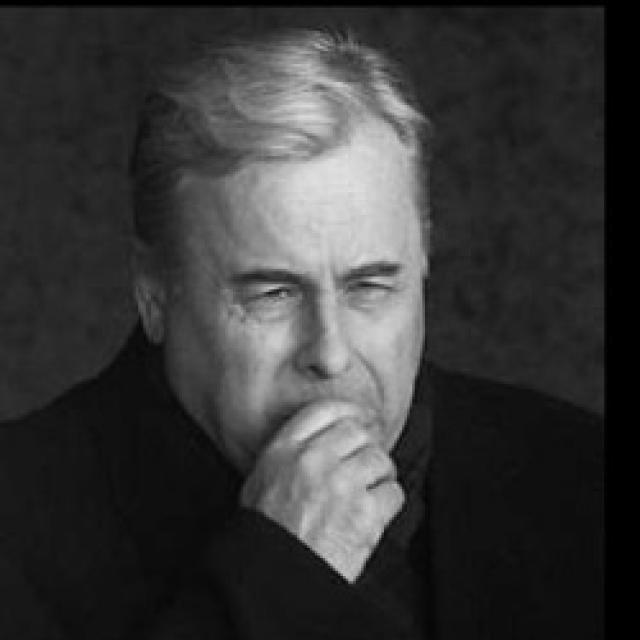real: (145, 132, 430, 480), (238, 254, 410, 336)
